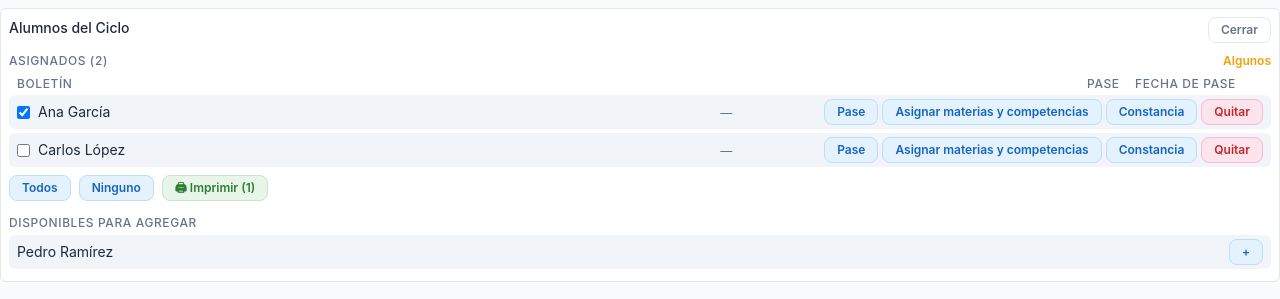
Test case: AlumnosCursoCicloPanel › W-16: cascade button is disabled while the request is in flight
Click cascade — promise is pending
Click the button with test id "btn-cascade-row-1".
click(992, 112)  # box [882,99,1102,125]
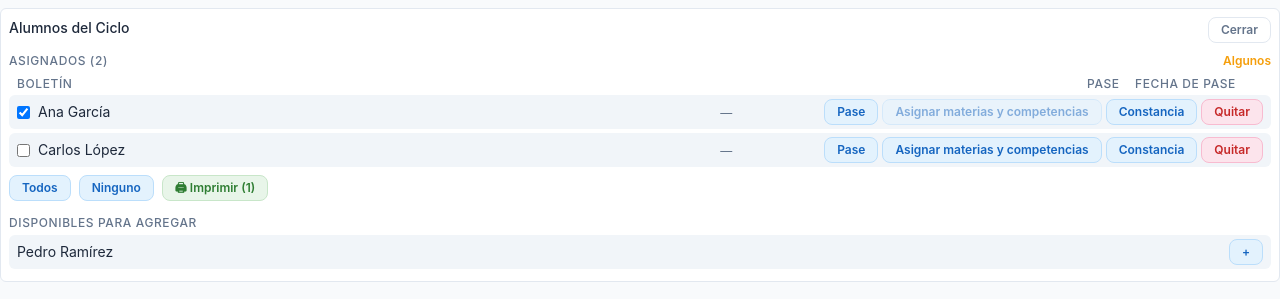
Expected: the button with test id "btn-cascade-row-1" is disabled, [882,99,1102,125]
